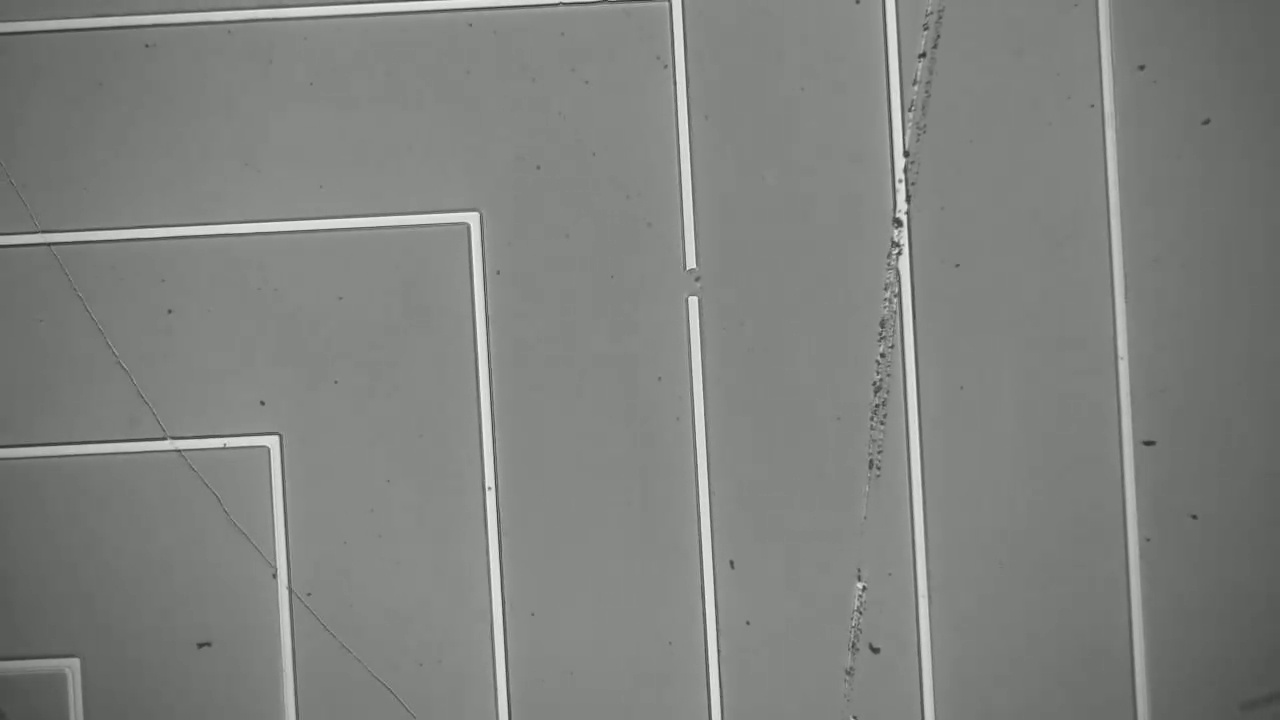open: (670, 256, 711, 323)
scratch: (7, 163, 411, 716), (835, 0, 951, 710)
